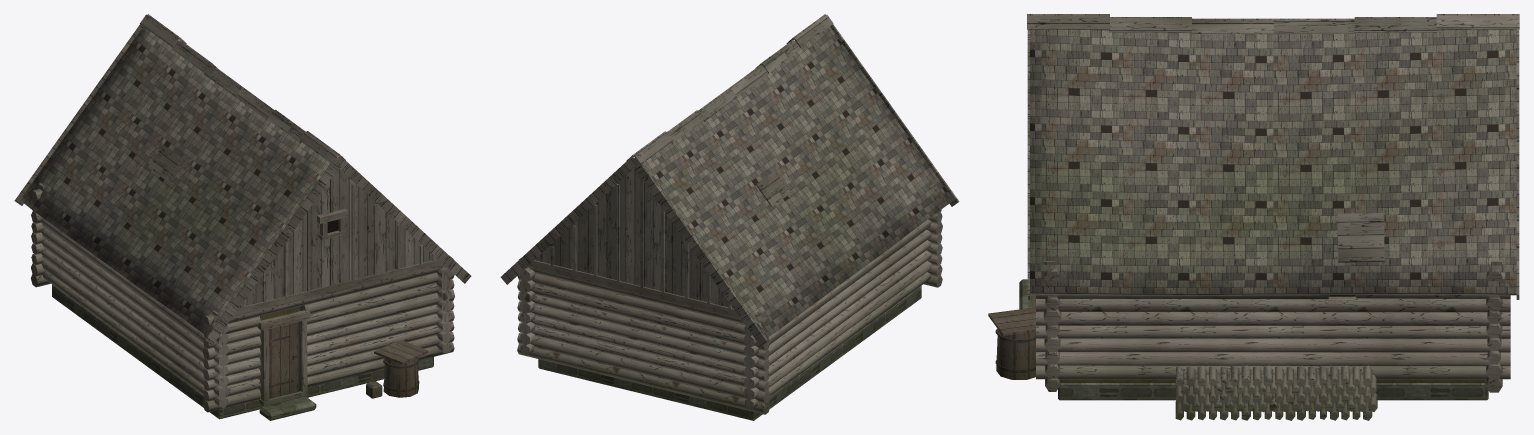
Rendered from public_bath.glb.
3 renders of one model, left to right at view 1: azimuth 30°, elevation 25°; view 2: azimuth 150°, elevation 25°; view 3: azimuth 270°, elevation 25°, orthographic. The views are drawn at different scales.
Parts seen in each view (by area): view 1: PublicBathWoodShingle, PublicBathLog, PublicBathBoards, PublicBathOakWeathered, PublicBathLimestonePlinth, PublicBathOakPlank, PublicBathWroughtIron; view 2: PublicBathWoodShingle, PublicBathLog, PublicBathBoards, PublicBathLimestonePlinth, PublicBathOakWeathered; view 3: PublicBathWoodShingle, PublicBathLog, PublicBathBoards, PublicBathLimestonePlinth, PublicBathOakPlank, PublicBathMossCaulk.
Boxes of the visible parts, left/top/right/bottom form: PublicBathWoodShingle: left=20, top=26, right=330, bottom=336; PublicBathLog: left=31, top=189, right=454, bottom=412; PublicBathBoards: left=14, top=14, right=471, bottom=345; PublicBathOakWeathered: left=38, top=183, right=444, bottom=405; PublicBathLimestonePlinth: left=52, top=285, right=433, bottom=420; PublicBathOakPlank: left=268, top=321, right=428, bottom=398; PublicBathWroughtIron: left=269, top=334, right=419, bottom=392; PublicBathWoodShingle: left=642, top=26, right=953, bottom=338; PublicBathLog: left=517, top=189, right=942, bottom=414; PublicBathBoards: left=500, top=14, right=959, bottom=346; PublicBathLimestonePlinth: left=538, top=286, right=921, bottom=420; PublicBathOakWeathered: left=527, top=184, right=934, bottom=318; PublicBathWoodShingle: left=1030, top=29, right=1516, bottom=295; PublicBathLog: left=1036, top=267, right=1510, bottom=420; PublicBathBoards: left=1027, top=14, right=1519, bottom=299; PublicBathLimestonePlinth: left=1019, top=279, right=1488, bottom=400; PublicBathOakPlank: left=988, top=307, right=1035, bottom=379; PublicBathMossCaulk: left=1060, top=295, right=1485, bottom=382.
Size of the model in its own units: 7.35 by 6.37 by 9.62.
Materials: 9 (9 with a texture image).
